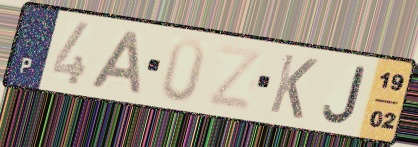0: (159, 35, 209, 105)
4: (49, 19, 92, 89)
A: (87, 28, 143, 97)
J: (321, 64, 368, 125)
K: (266, 51, 320, 122)
Z: (204, 42, 266, 115)
